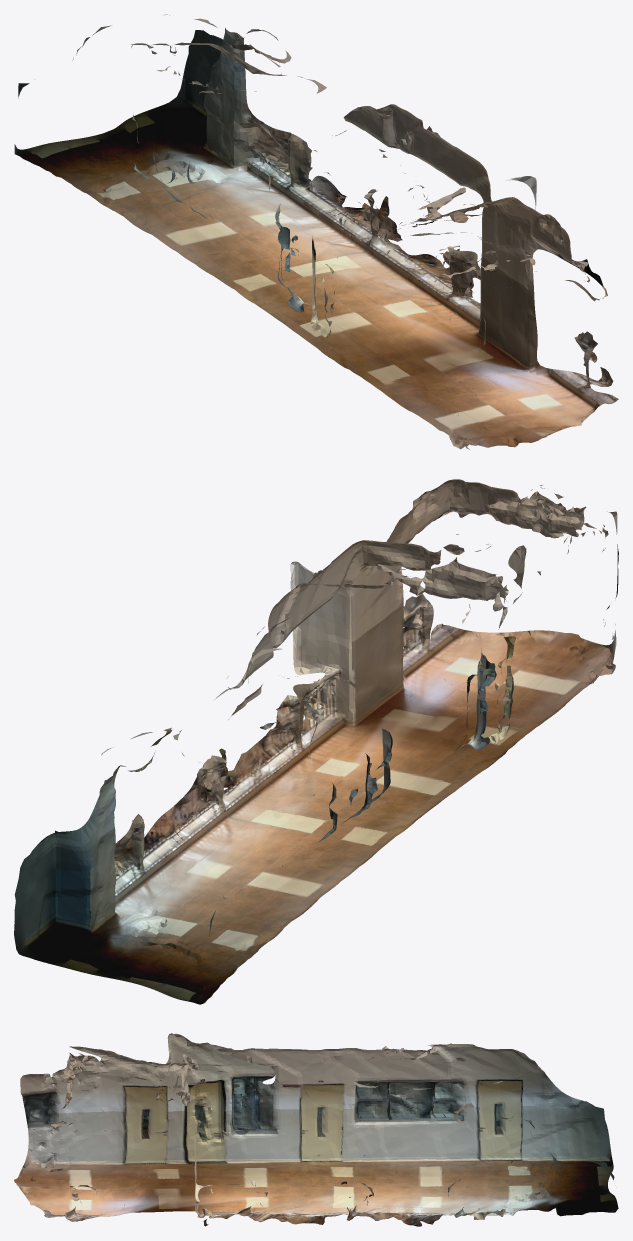
The model's file is sample1.glb.
3 views of the same model, one above another, from view 1: azimuth 30°, elevation 25°; view 2: azimuth 150°, elevation 25°; view 3: azimuth 270°, elevation 25° (orthographic). The views are drawn at different scales.
Bounding box in the file's own units: 4.65 × 3.97 × 15.86.
1 material, 1 textured.
